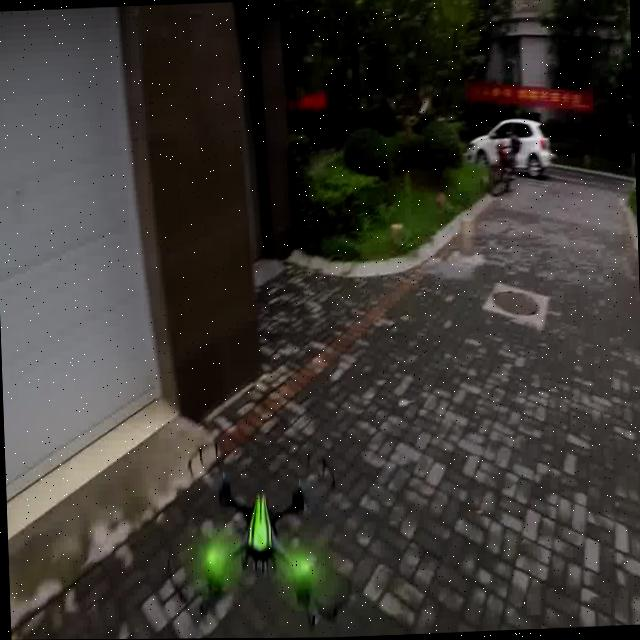drone: (156, 445, 354, 624)
